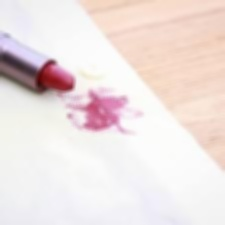lipstick: (57, 89, 145, 139)
